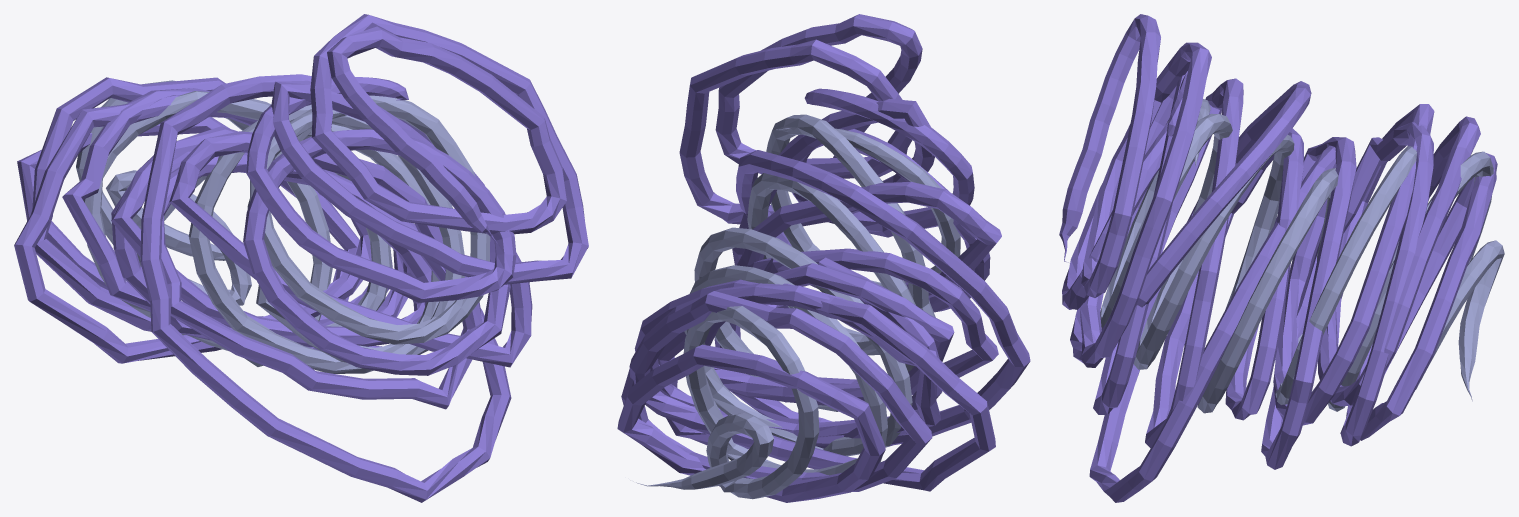
Rendered from Magic1_blu.fbx.
3 views of the same model, side by side, from view 1: azimuth 30°, elevation 25°; view 2: azimuth 150°, elevation 25°; view 3: azimuth 270°, elevation 25° (orthographic). The views are drawn at different scales.
Parts seen in each view (by area): view 1: Magic1; view 2: Magic1; view 3: Magic1.
Part boxes in pixels (box(x1,y1,x2,y2)): Magic1: box(14, 14, 588, 502); Magic1: box(617, 14, 1030, 502); Magic1: box(1059, 14, 1504, 502).
Bounding box in the file's own units: 2.59 × 2.61 × 2.38.
